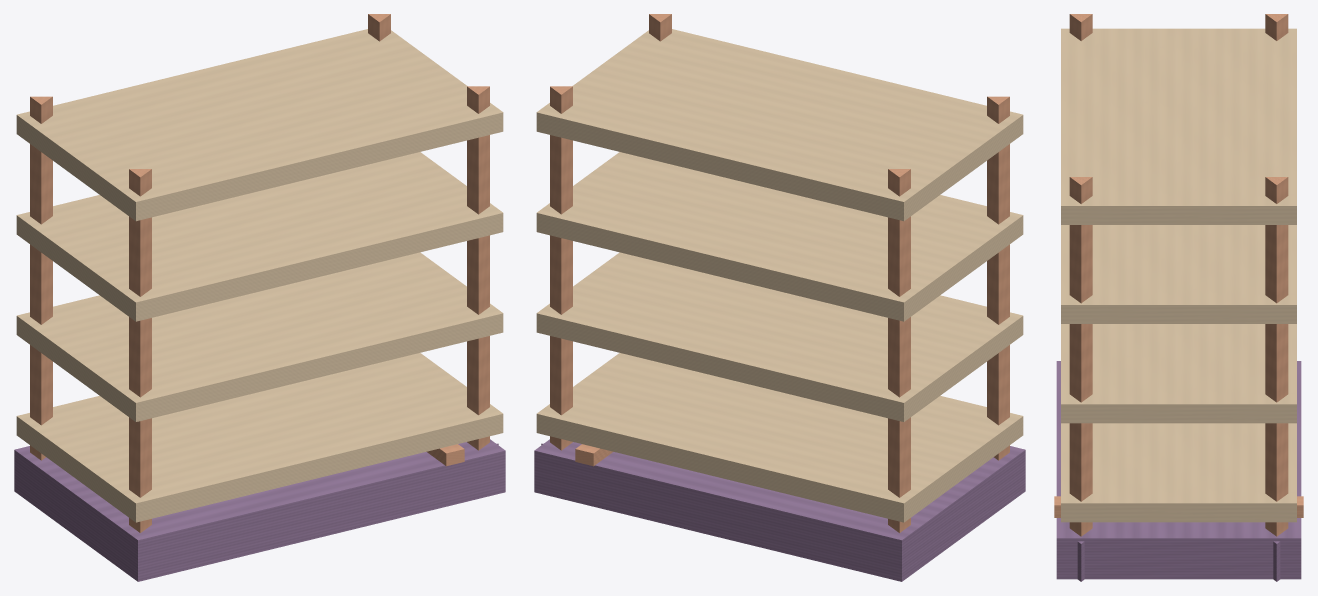
File: atlas100-s088-a06.lod2.glb
3 renders of one model, left to right at view 1: azimuth 30°, elevation 25°; view 2: azimuth 150°, elevation 25°; view 3: azimuth 270°, elevation 25°, orthographic.
Parts seen in each view (by area): view 1: atlas100-s088-a06:part-014, atlas100-s088-a06:part-011, atlas100-s088-a06:part-012, atlas100-s088-a06:part-013, atlas100-s088-a06:part-000, atlas100-s088-a06:part-005, atlas100-s088-a06:part-009, atlas100-s088-a06:part-003; view 2: atlas100-s088-a06:part-014, atlas100-s088-a06:part-011, atlas100-s088-a06:part-012, atlas100-s088-a06:part-013, atlas100-s088-a06:part-000, atlas100-s088-a06:part-003, atlas100-s088-a06:part-007, atlas100-s088-a06:part-005; view 3: atlas100-s088-a06:part-014, atlas100-s088-a06:part-012, atlas100-s088-a06:part-011, atlas100-s088-a06:part-013, atlas100-s088-a06:part-000, atlas100-s088-a06:part-007, atlas100-s088-a06:part-009, atlas100-s088-a06:part-003, atlas100-s088-a06:part-005.
Part boxes in pixels (bbox=[...]): atlas100-s088-a06:part-014: bbox=[16, 29, 503, 221]; atlas100-s088-a06:part-011: bbox=[16, 353, 503, 522]; atlas100-s088-a06:part-012: bbox=[16, 252, 503, 421]; atlas100-s088-a06:part-013: bbox=[16, 152, 503, 321]; atlas100-s088-a06:part-000: bbox=[14, 439, 505, 581]; atlas100-s088-a06:part-005: bbox=[129, 169, 151, 532]; atlas100-s088-a06:part-009: bbox=[467, 86, 489, 450]; atlas100-s088-a06:part-003: bbox=[30, 96, 52, 460]; atlas100-s088-a06:part-014: bbox=[536, 29, 1023, 221]; atlas100-s088-a06:part-011: bbox=[536, 353, 1023, 522]; atlas100-s088-a06:part-012: bbox=[536, 252, 1023, 421]; atlas100-s088-a06:part-013: bbox=[536, 152, 1023, 321]; atlas100-s088-a06:part-000: bbox=[534, 439, 1025, 581]; atlas100-s088-a06:part-003: bbox=[888, 169, 910, 532]; atlas100-s088-a06:part-007: bbox=[550, 86, 572, 450]; atlas100-s088-a06:part-005: bbox=[987, 96, 1009, 460]; atlas100-s088-a06:part-014: bbox=[1061, 28, 1296, 224]; atlas100-s088-a06:part-012: bbox=[1061, 324, 1296, 423]; atlas100-s088-a06:part-011: bbox=[1061, 423, 1296, 522]; atlas100-s088-a06:part-013: bbox=[1061, 225, 1296, 323]; atlas100-s088-a06:part-000: bbox=[1056, 361, 1301, 579]; atlas100-s088-a06:part-007: bbox=[1265, 177, 1288, 536]; atlas100-s088-a06:part-009: bbox=[1069, 177, 1092, 536]; atlas100-s088-a06:part-003: bbox=[1265, 14, 1288, 40]; atlas100-s088-a06:part-005: bbox=[1069, 14, 1092, 40].
Bounding box in the file's own units: 2.43 × 2.48 × 1.43.
3 materials, 3 textured.
